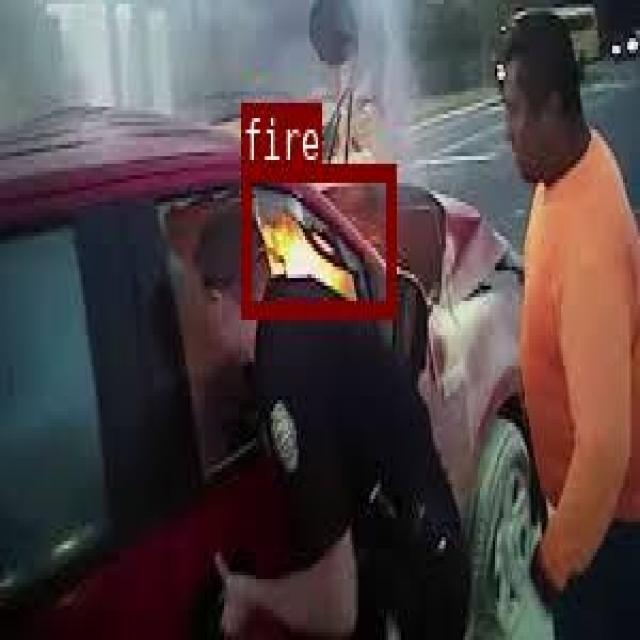fire: (240, 162, 395, 315)
